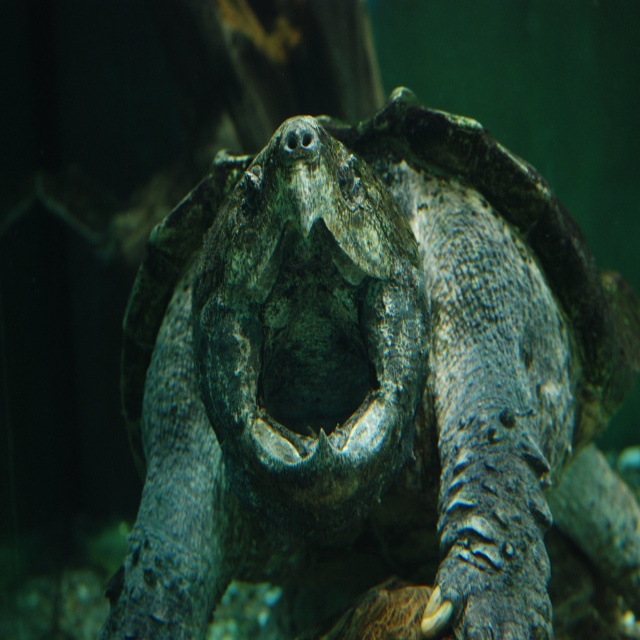Tortoise: (97, 87, 640, 640)
